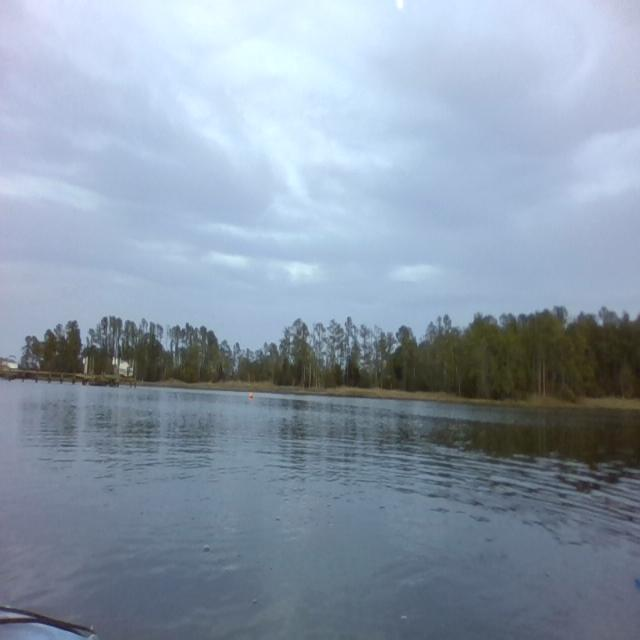Buoy: (248, 391, 254, 401)
